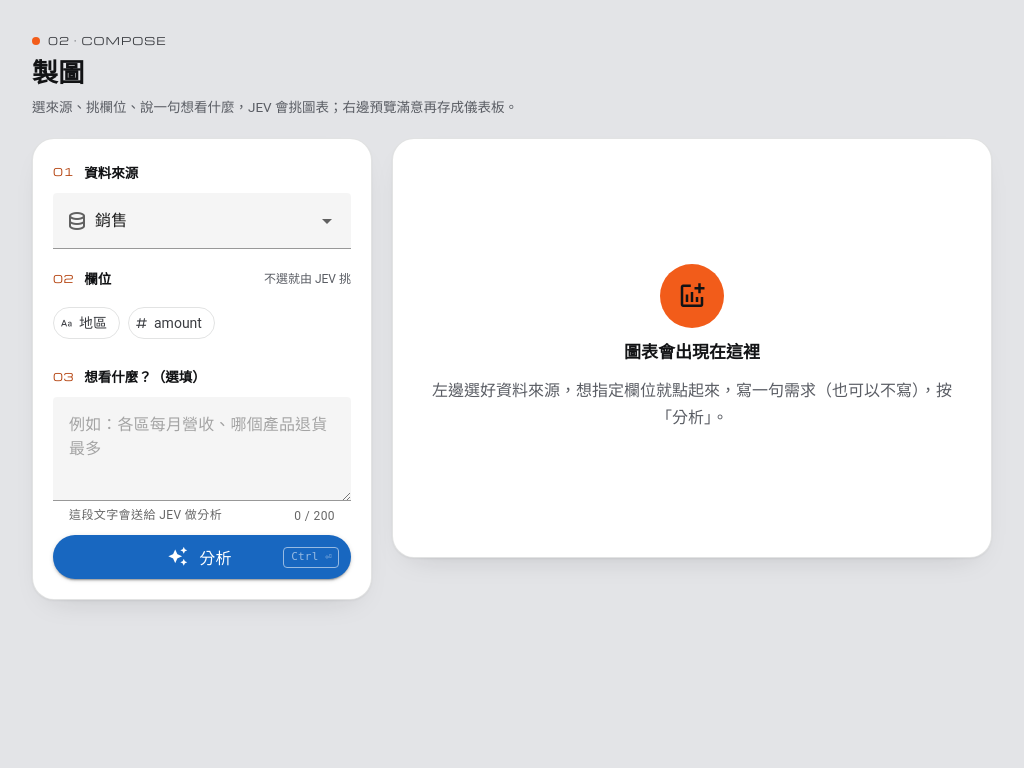
Test: ChartBuilder › shows the error message and no preview when analyze rejects
Click the button "分析 Ctrl ⏎" at (202, 557), box x1=53 y1=535 x2=351 y2=579
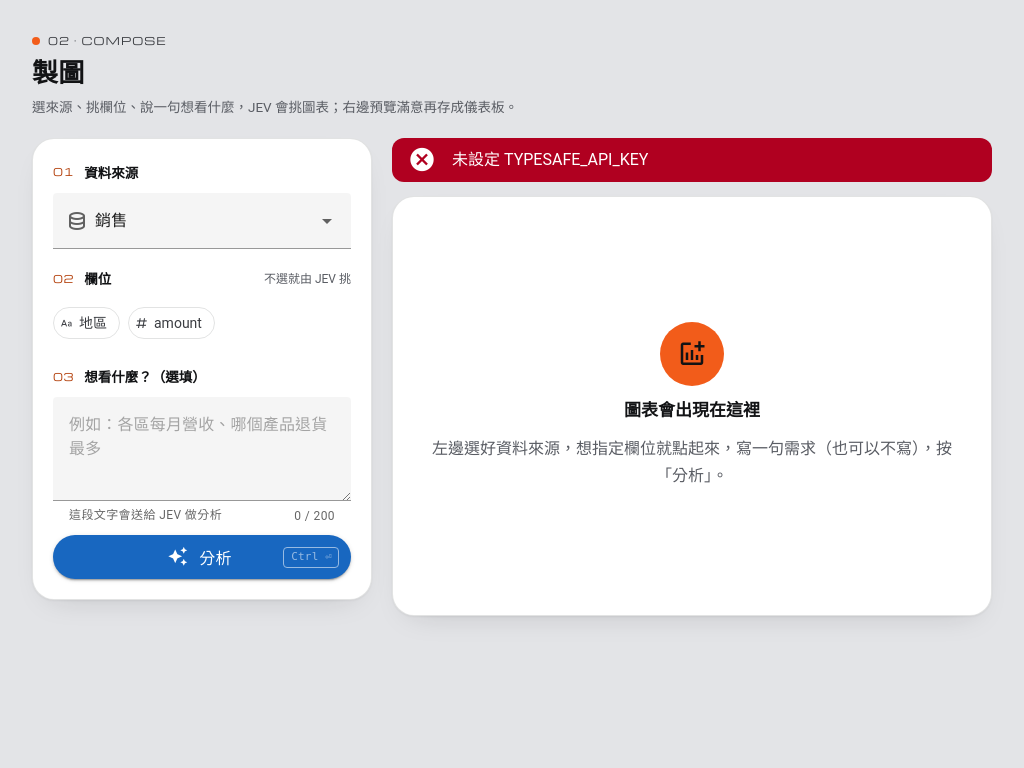
Check: the message "未設定 TYPESAFE_API_KEY" is shown, box x1=392 y1=138 x2=992 y2=182
